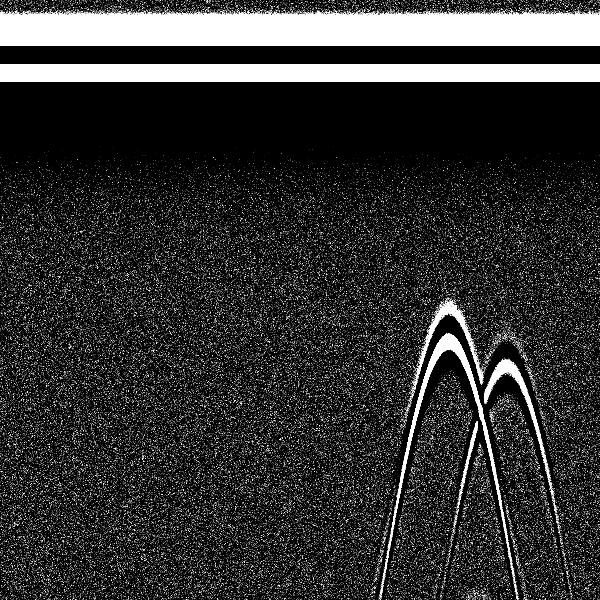pipe: (470, 5, 546, 421), (406, 6, 486, 390)
